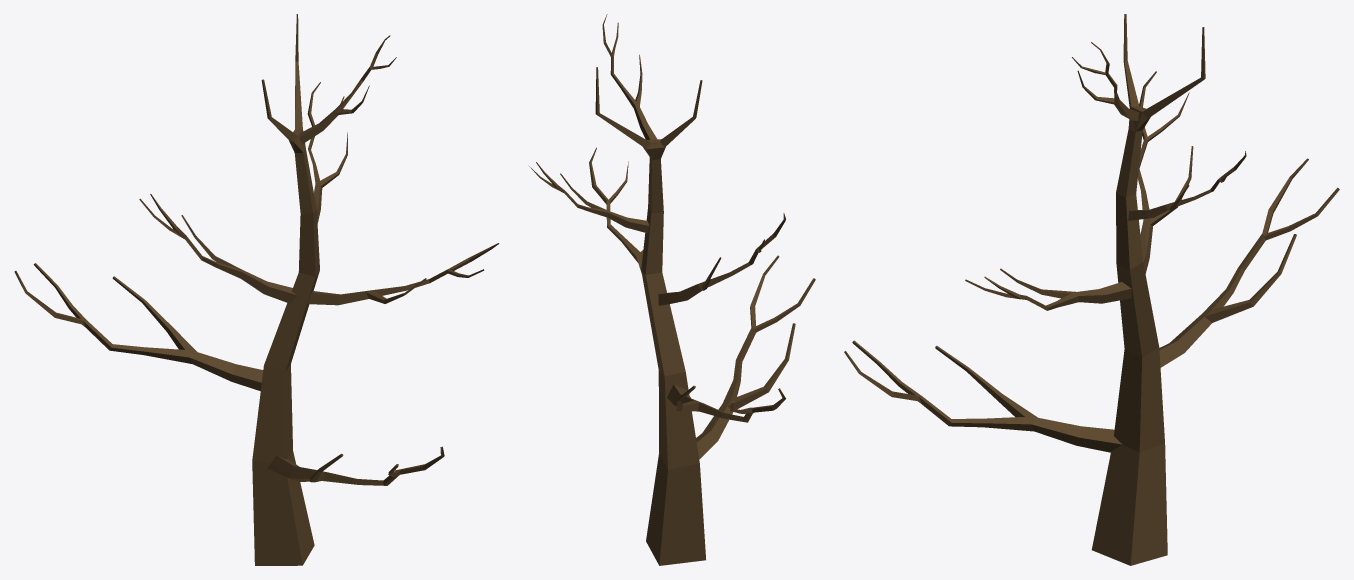
The model's file is Tree_15.fbx.
3 views of the same model, side by side, from view 1: azimuth 30°, elevation 25°; view 2: azimuth 150°, elevation 25°; view 3: azimuth 270°, elevation 25° (orthographic). The views are drawn at different scales.
Visible parts, largest first — view 1: Tree_15; view 2: Tree_15; view 3: Tree_15.
Part boxes in pixels (x1=…): Tree_15: x1=14, y1=14, x2=499, y2=565; Tree_15: x1=529, y1=14, x2=815, y2=565; Tree_15: x1=844, y1=14, x2=1339, y2=565.
Size of the model in its own units: 460 by 673 by 540.
